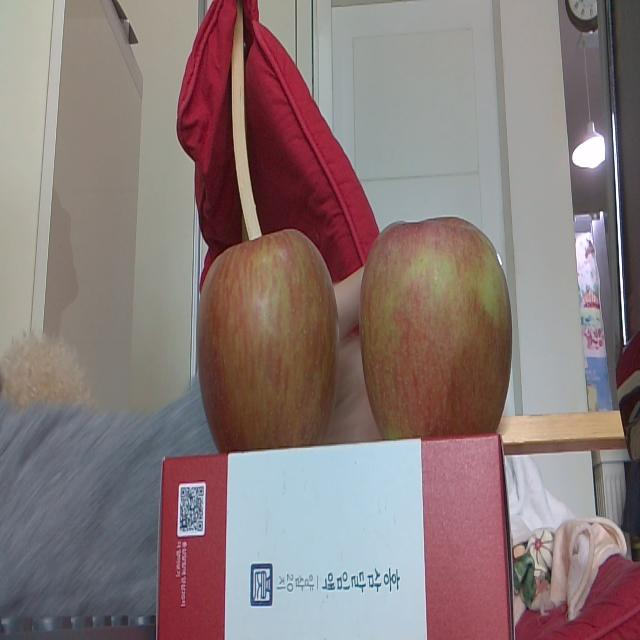apple: (359, 212, 513, 443), (198, 224, 340, 445)
